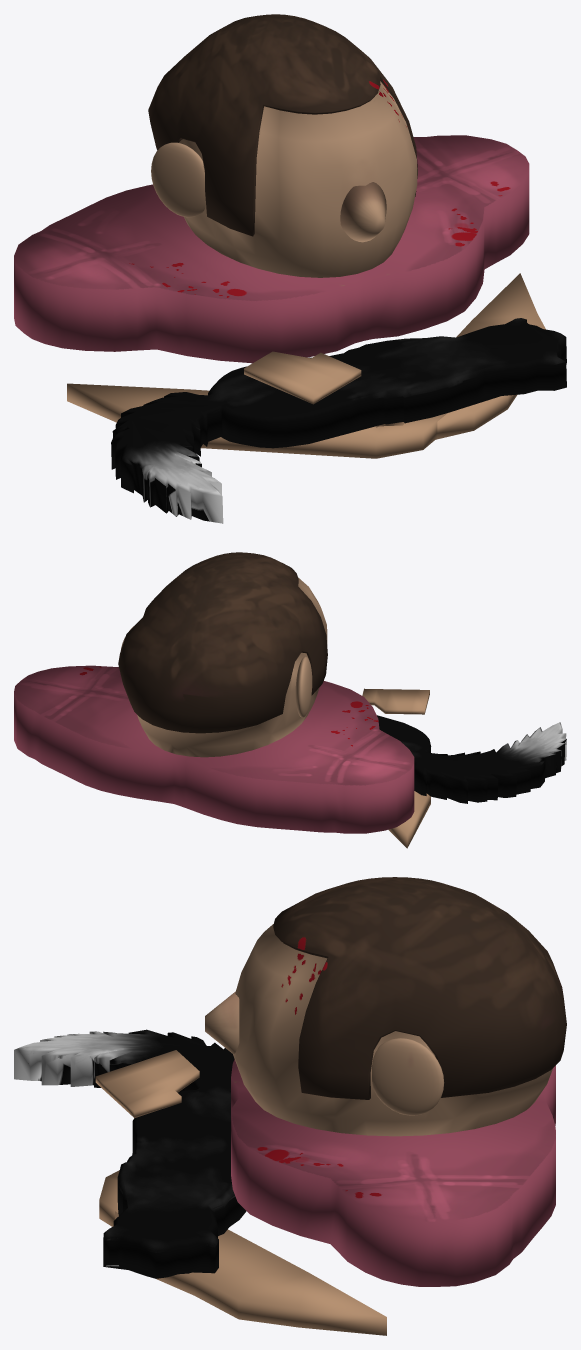
The model's file is Luna_i_glavni_lik.fbx.
3 views of the same model, one above another, from view 1: azimuth 30°, elevation 25°; view 2: azimuth 150°, elevation 25°; view 3: azimuth 270°, elevation 25° (orthographic). The views are drawn at different scales.
Parts seen in each view (by area): view 1: Palica, Palica.001; view 2: Palica, Palica.001; view 3: Palica, Palica.001.
Boxes of the visible parts, left/top/right/bottom form: Palica: left=14, top=14, right=545, bottom=458; Palica.001: left=111, top=318, right=566, bottom=523; Palica: left=14, top=552, right=430, bottom=848; Palica.001: left=377, top=715, right=566, bottom=803; Palica: left=95, top=877, right=566, bottom=1335; Palica.001: left=14, top=1029, right=246, bottom=1278.
Size of the model in its own units: 53.94 by 30.8 by 45.82.
Materials: 3 (2 with a texture image).
